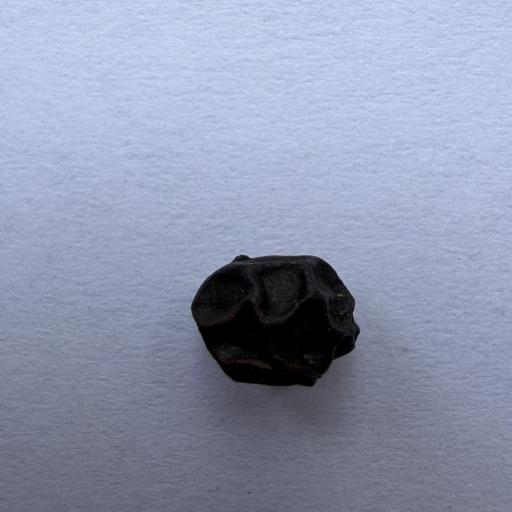Black_pepper: (178, 242, 371, 392)
